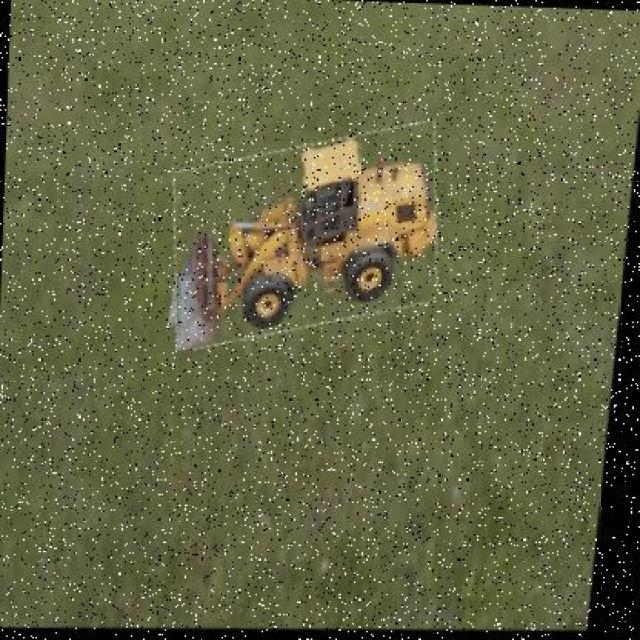buldozerpayloadergrader: (176, 131, 439, 334)
